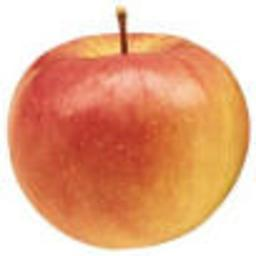apple: (6, 21, 253, 250)
